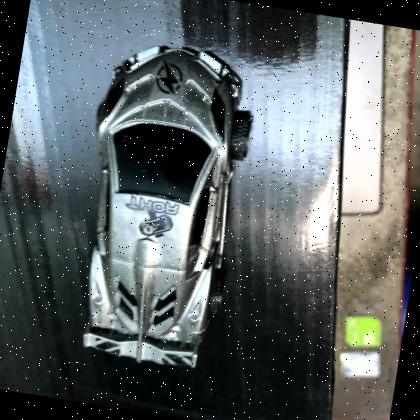Car: (83, 44, 251, 367)
